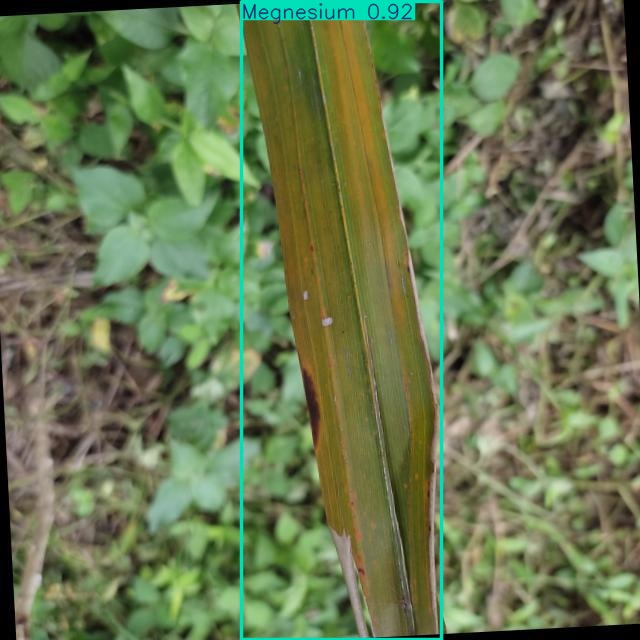Megnesium: (241, 1, 442, 640)
